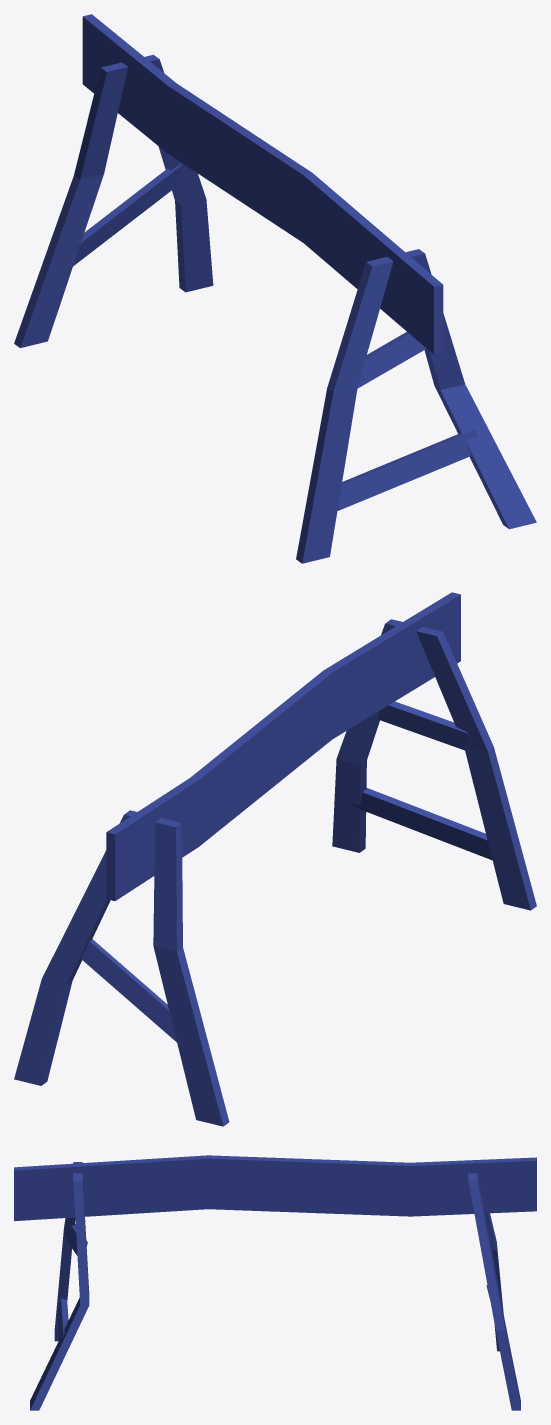
Rendered from Valla.fbx.
3 renders of one model, top to bottom at view 1: azimuth 30°, elevation 25°; view 2: azimuth 150°, elevation 25°; view 3: azimuth 270°, elevation 25°, orthographic. The views are drawn at different scales.
Parts seen in each view (by area): view 1: Cube; view 2: Cube; view 3: Cube.
Boxes of the visible parts, left/top/right/bottom form: Cube: left=14, top=14, right=536, bottom=563; Cube: left=14, top=592, right=536, bottom=1126; Cube: left=14, top=1155, right=536, bottom=1410.
Bounding box in the file's own units: 71.75 × 92.09 × 200.
